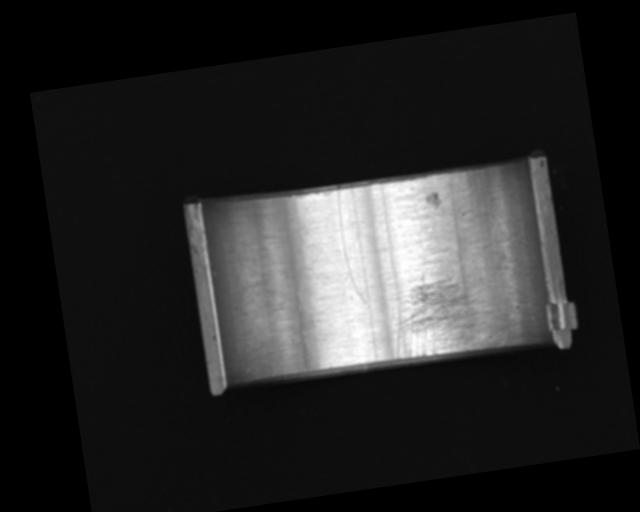bruise: (423, 190, 441, 210)
nick: (334, 185, 367, 307)
scratch: (380, 261, 501, 363)
